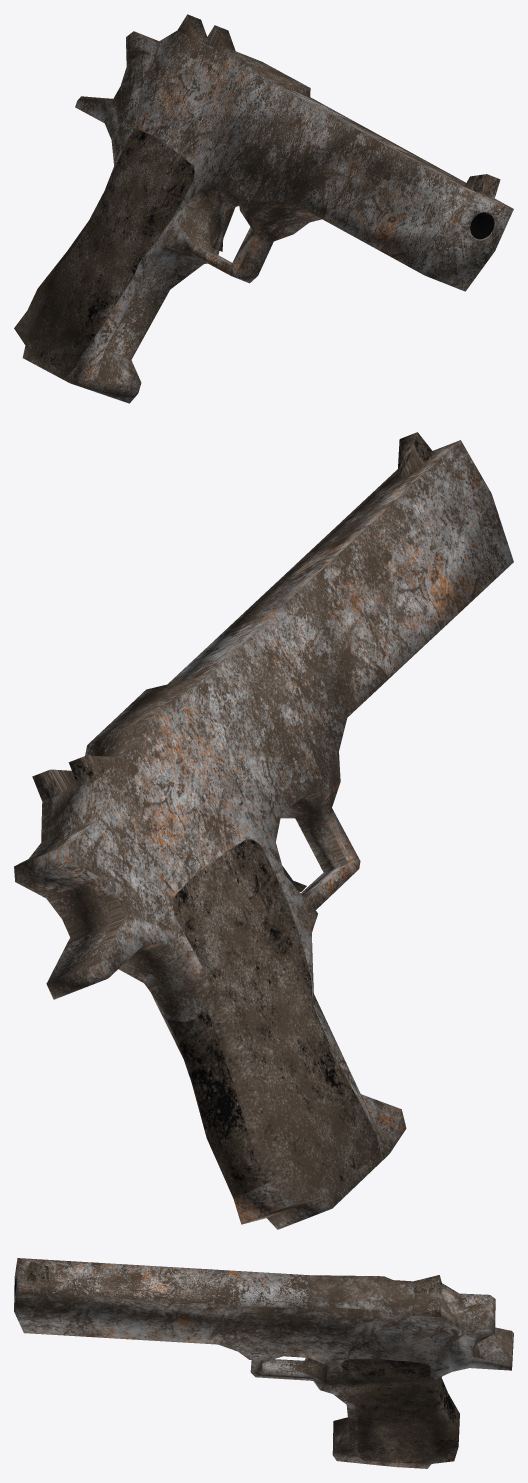
Rendered from Anim_disparar_pistola_objetos.0024.obj.
3 renders of one model, top to bottom at view 1: azimuth 30°, elevation 25°; view 2: azimuth 150°, elevation 25°; view 3: azimuth 270°, elevation 25°, orthographic. The views are drawn at different scales.
Visible parts, largest first — view 1: Pistola1; view 2: Pistola1; view 3: Pistola1.
Boxes of the visible parts, x1=… form: Pistola1: x1=14, y1=14, x2=513, y2=403; Pistola1: x1=14, y1=432, x2=513, y2=1229; Pistola1: x1=14, y1=1258, x2=513, y2=1468.
Size of the model in its own units: 0.6431 by 0.9944 by 1.69.
